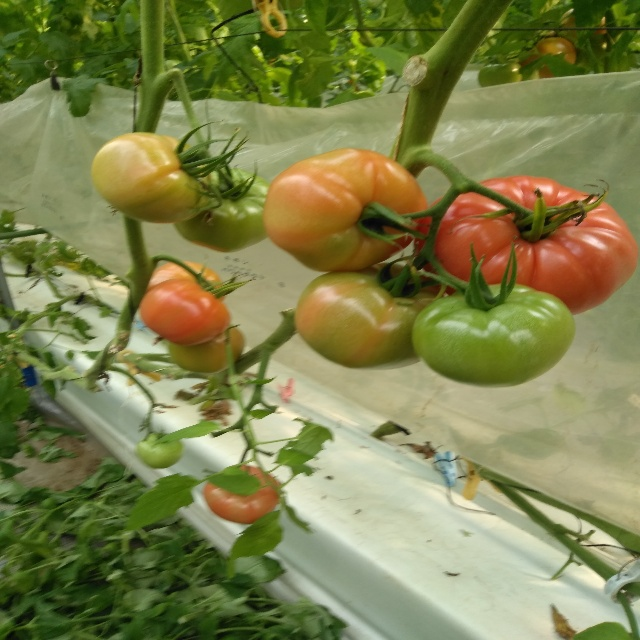b_fully_ripened: (410, 176, 639, 316)
b_green: (413, 282, 576, 389), (293, 263, 442, 370), (89, 132, 213, 223), (173, 169, 270, 252), (168, 325, 246, 373)
b_half_ripened: (262, 148, 429, 272), (141, 277, 231, 345), (150, 262, 226, 302)
